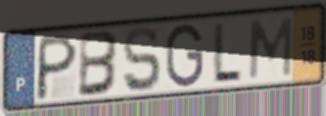B: (76, 29, 121, 100)
G: (164, 22, 205, 90)
L: (210, 21, 244, 84)
M: (246, 14, 294, 82)
P: (33, 32, 80, 103)
S: (121, 24, 163, 95)
